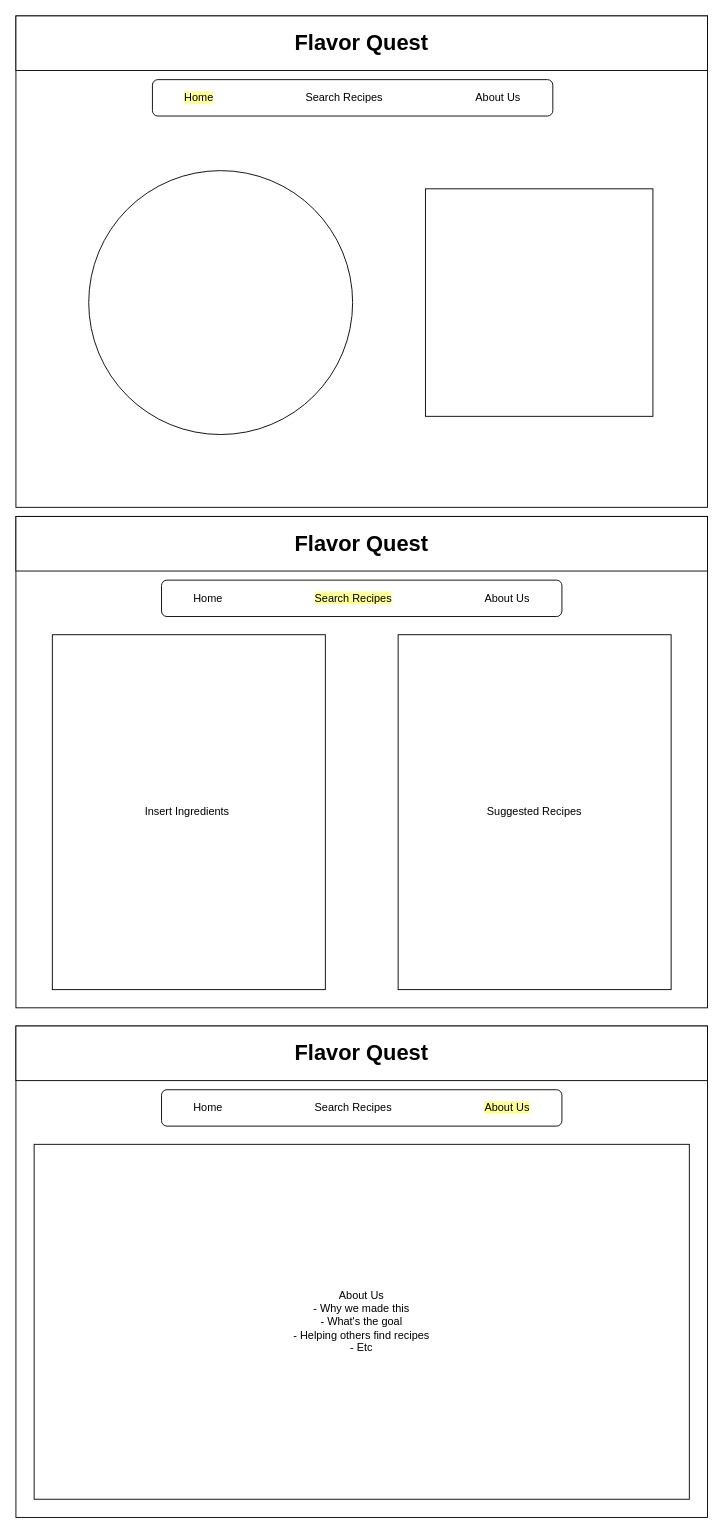
Image size: 723x1533. Some labels were removed from this diagram. Each missing label, with the box of its shape:
Image Placeholder: (88, 170, 353, 435)
Login Box: (425, 188, 653, 416)
